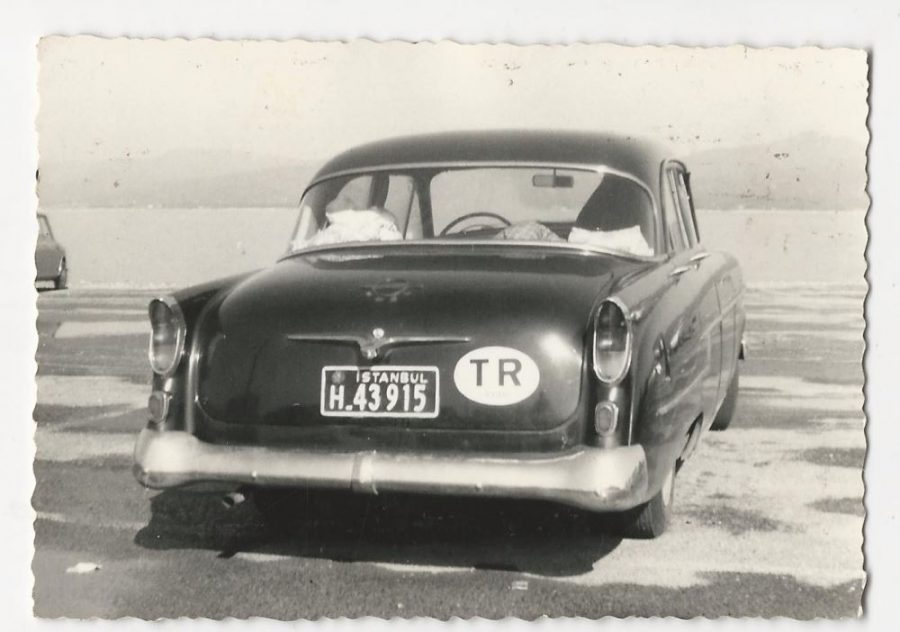plate: (303, 367, 438, 414)
